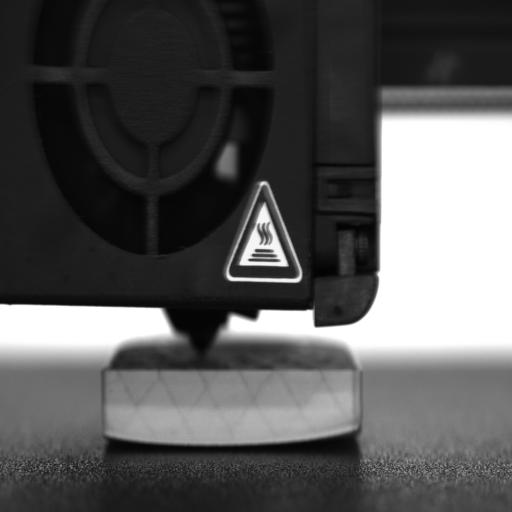warp: (93, 424, 162, 456), (313, 417, 367, 449)
